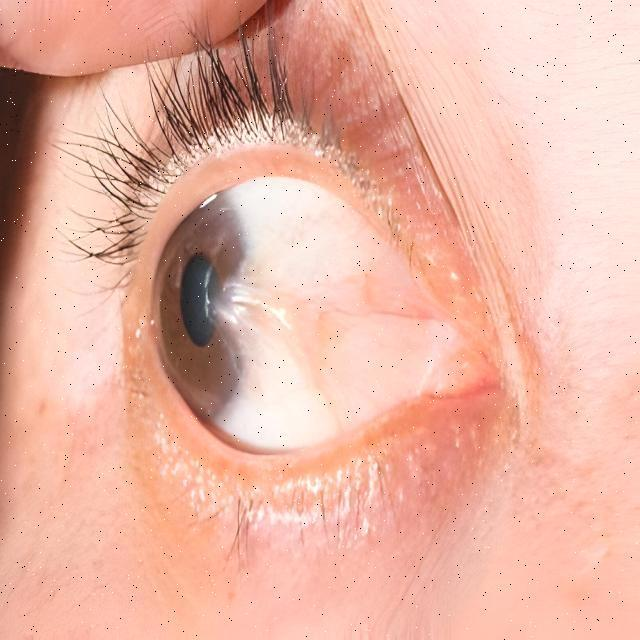Pterygium: (216, 217, 457, 407)
